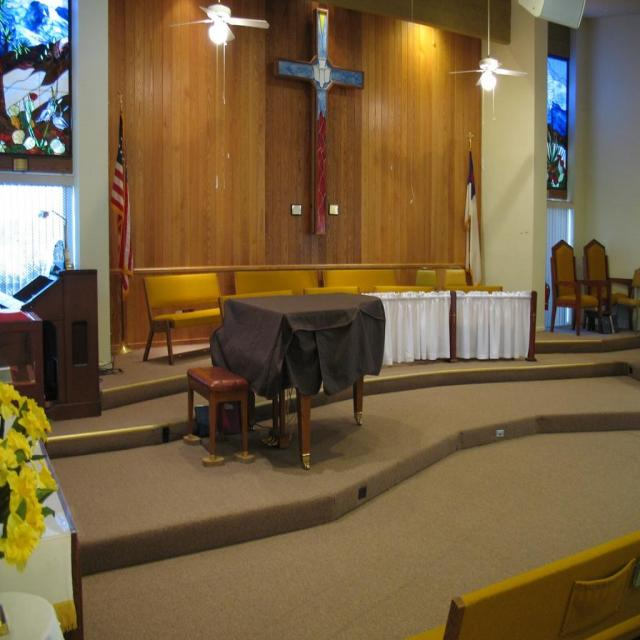table: (202, 291, 404, 446)
